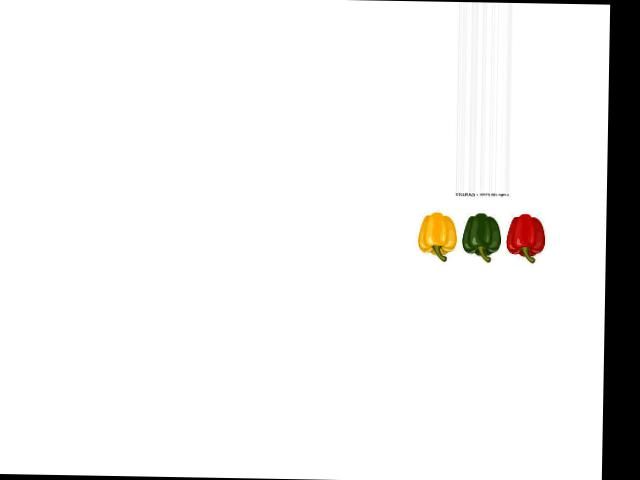bell_pepper: (415, 208, 459, 260)
